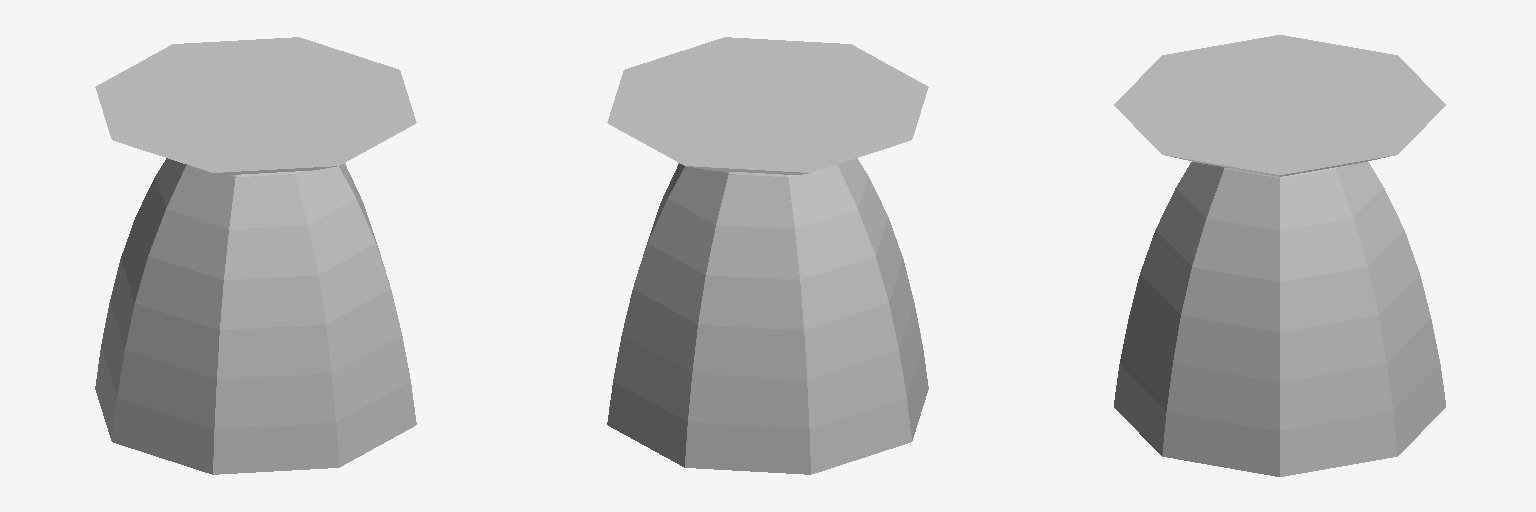
Rendered from engine_3m.obj.
3 views of the same model, side by side, from view 1: azimuth 30°, elevation 25°; view 2: azimuth 150°, elevation 25°; view 3: azimuth 270°, elevation 25° (orthographic).
Visible parts, largest first — view 1: Cylinder_Cylinder.001; view 2: Cylinder_Cylinder.001; view 3: Cylinder_Cylinder.001.
Part boxes in pixels (bbox=[...]): Cylinder_Cylinder.001: bbox=[95, 37, 416, 474]; Cylinder_Cylinder.001: bbox=[607, 37, 928, 474]; Cylinder_Cylinder.001: bbox=[1114, 35, 1445, 476].
Bounding box in the file's own units: 3 × 3 × 3.